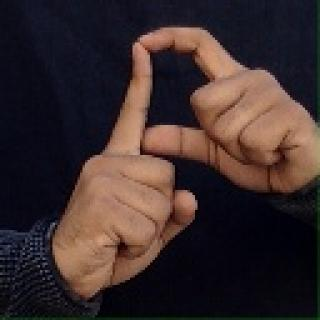D: (56, 26, 316, 294)
